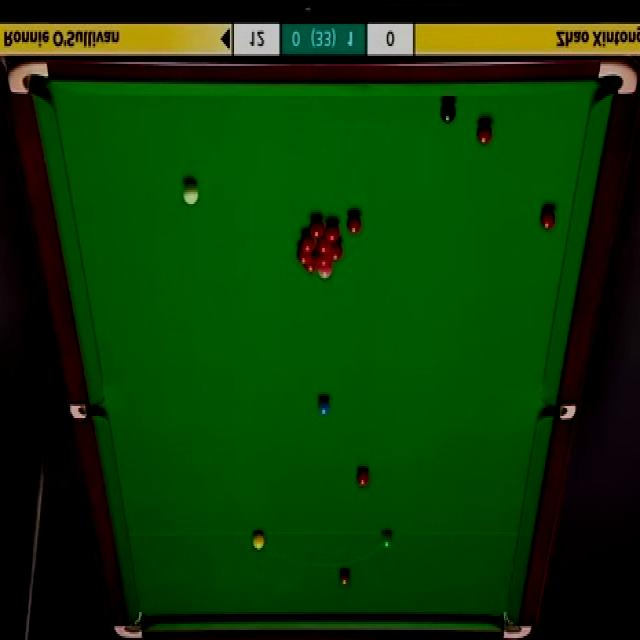black-ball: (440, 100, 456, 124)
blue-ball: (316, 394, 331, 417)
brown-ball: (339, 571, 352, 586)
green-ball: (380, 532, 394, 550)
pink-ball: (318, 268, 333, 278)
red-ball: (477, 122, 492, 146), (324, 222, 340, 244), (347, 213, 362, 234), (331, 240, 344, 262), (541, 210, 555, 230), (310, 218, 323, 238), (300, 232, 313, 252), (357, 467, 369, 488), (304, 257, 318, 274), (295, 251, 310, 264), (319, 254, 330, 270), (317, 242, 331, 252)
white-ball: (180, 178, 200, 208)
yellow-ball: (252, 531, 264, 549)
